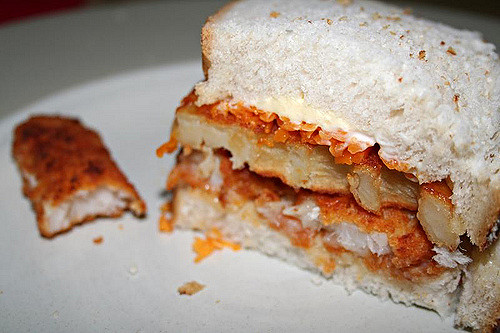slice of bread: (182, 97, 488, 297)
